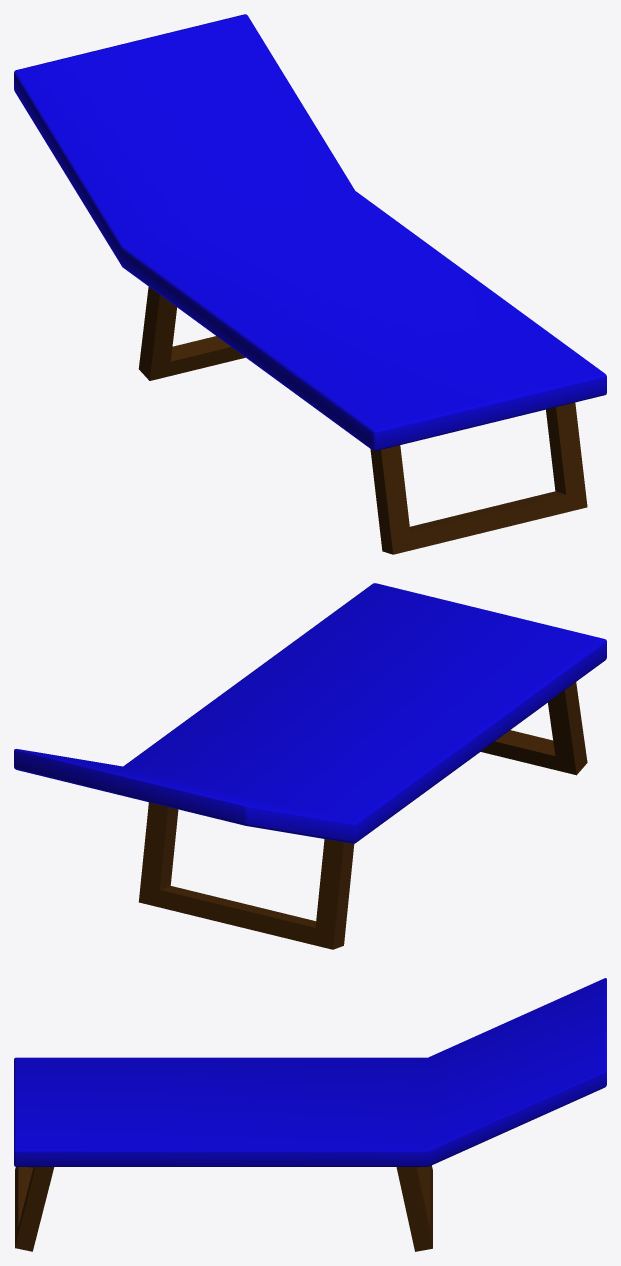
Rendered from STrandstoel blauw.fbx.
The picture shows the model from 3 angles, top to bottom: view 1: azimuth 30°, elevation 25°; view 2: azimuth 150°, elevation 25°; view 3: azimuth 270°, elevation 25°; orthographic projection. The views are drawn at different scales.
Visible parts, largest first — view 1: Cube.003; view 2: Cube.003; view 3: Cube.003.
Part boxes in pixels (bbox=[...]): Cube.003: bbox=[14, 14, 606, 554]; Cube.003: bbox=[14, 583, 606, 949]; Cube.003: bbox=[14, 978, 606, 1251].
Bounding box in the file's own units: 0.7236 × 0.6789 × 1.93.
